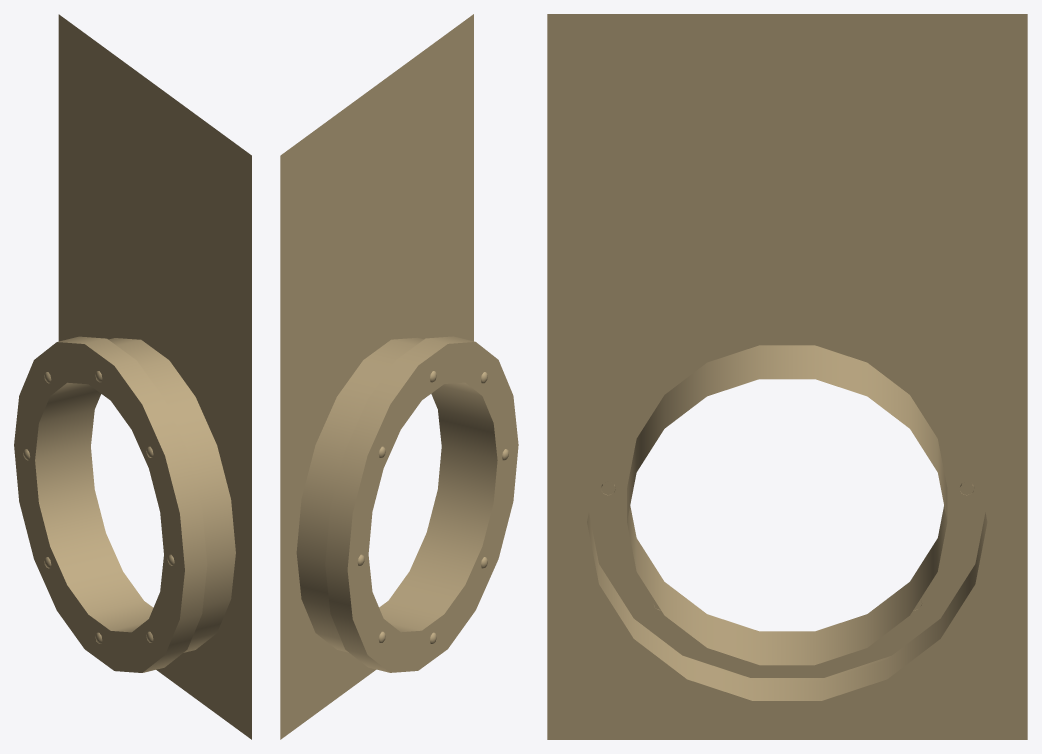
Rendered from Pipe_Large_Wall_3x5_Sewer_Environment.FBX.
The picture shows the model from 3 angles, left to right: view 1: azimuth 30°, elevation 25°; view 2: azimuth 150°, elevation 25°; view 3: azimuth 270°, elevation 25°; orthographic projection. The views are drawn at different scales.
Parts seen in each view (by area): view 1: Rohrende_Wand_3x5; view 2: Rohrende_Wand_3x5; view 3: Rohrende_Wand_3x5.
Boxes of the visible parts, left/top/right/bottom form: Rohrende_Wand_3x5: left=14, top=14, right=251, bottom=739; Rohrende_Wand_3x5: left=280, top=14, right=518, bottom=739; Rohrende_Wand_3x5: left=547, top=14, right=1027, bottom=739.
Size of the model in its own units: 52.36 by 500 by 300.
